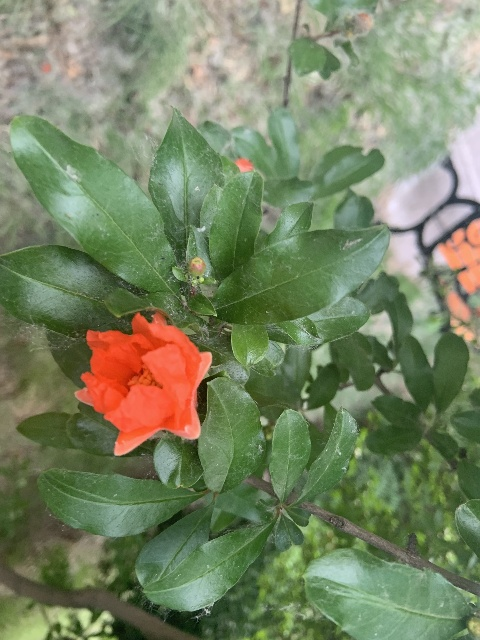flower: (76, 309, 211, 455)
